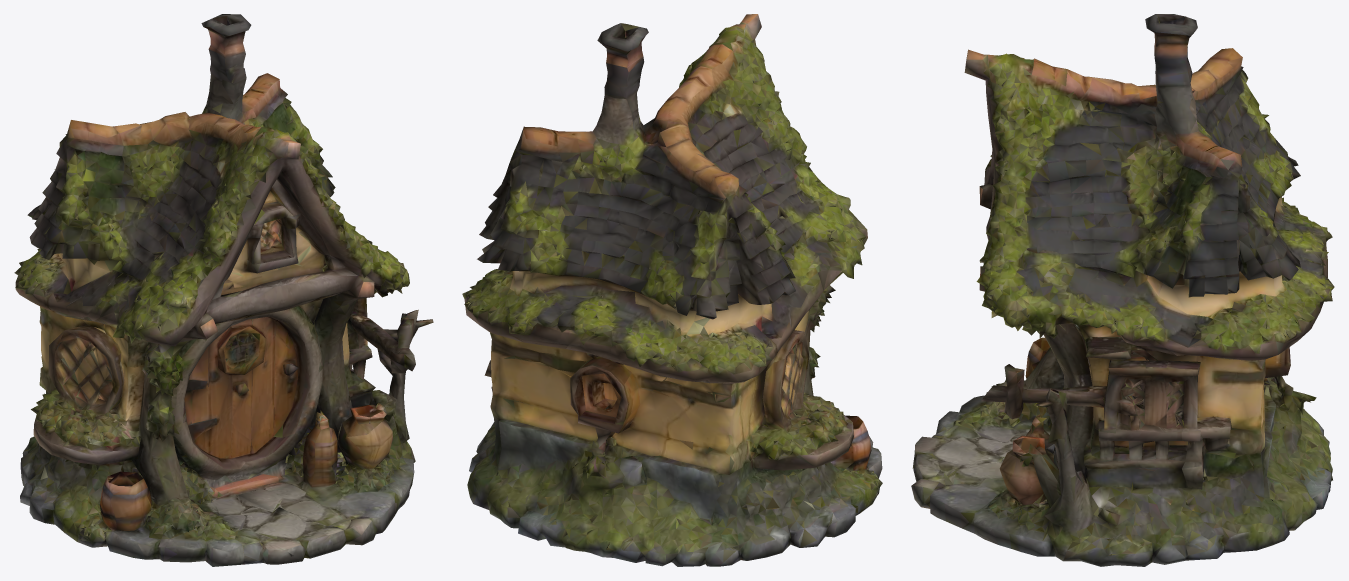
The model's file is Whimsical_Hobbit_Dwel.glb.
3 views of the same model, side by side, from view 1: azimuth 30°, elevation 25°; view 2: azimuth 150°, elevation 25°; view 3: azimuth 270°, elevation 25° (orthographic). The views are drawn at different scales.
Visible parts, largest first — view 1: Whimsical_Hobbit_Dwel; view 2: Whimsical_Hobbit_Dwel; view 3: Whimsical_Hobbit_Dwel.
Part boxes in pixels (box(x1,y1,x2,y2)): Whimsical_Hobbit_Dwel: box(14, 14, 433, 566); Whimsical_Hobbit_Dwel: box(462, 14, 882, 566); Whimsical_Hobbit_Dwel: box(911, 14, 1334, 566).
Bounding box in the file's own units: 1.58 × 1.91 × 1.54.
Materials: 1 (1 with a texture image).
